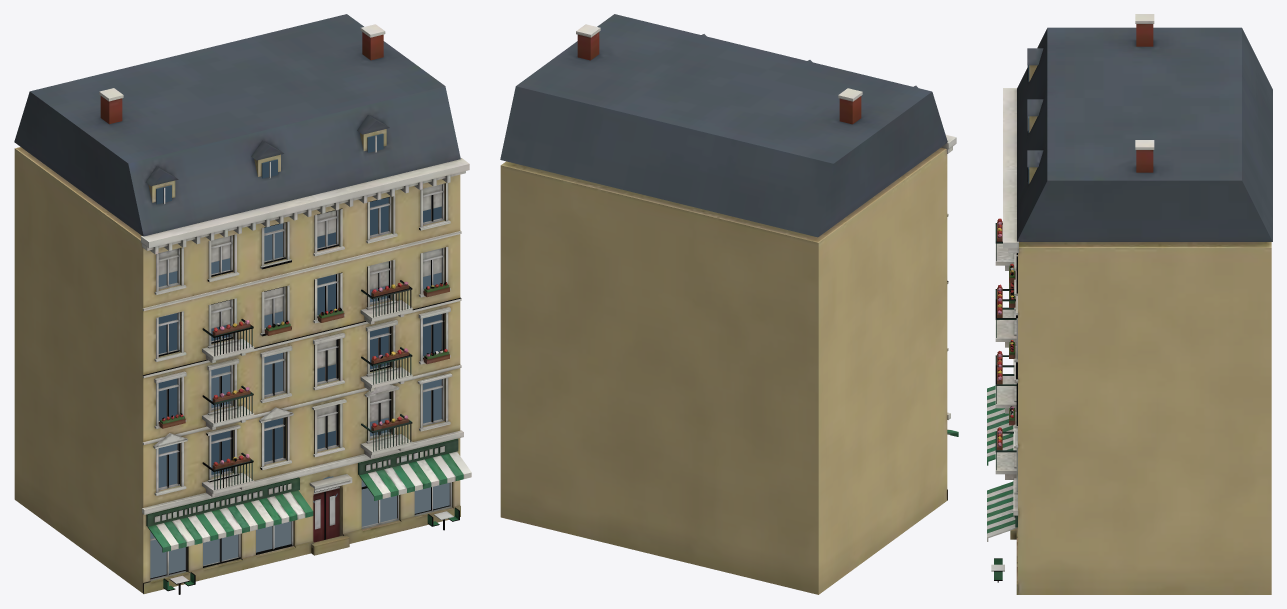
File: getkong-hh3.glb
The picture shows the model from 3 angles, left to right: view 1: azimuth 30°, elevation 25°; view 2: azimuth 150°, elevation 25°; view 3: azimuth 270°, elevation 25°; orthographic projection.
Parts seen in each view (by area): view 1: Haus; view 2: Haus; view 3: Haus.
Part boxes in pixels (left/top/right/bottom): Haus: left=14, top=14, right=471, bottom=594; Haus: left=500, top=14, right=958, bottom=594; Haus: left=987, top=14, right=1272, bottom=594.
Size of the model in its own units: 17.3 by 22.95 by 13.5.
Materials: 4 (1 with a texture image).
